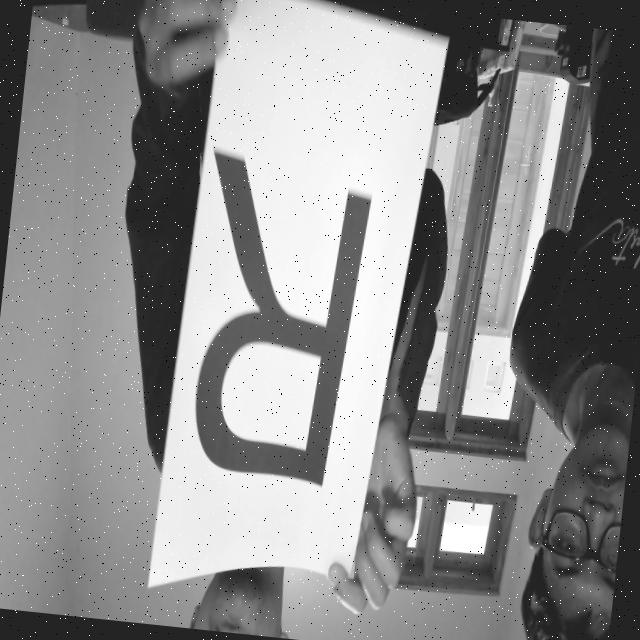r: (156, 94, 400, 507)
